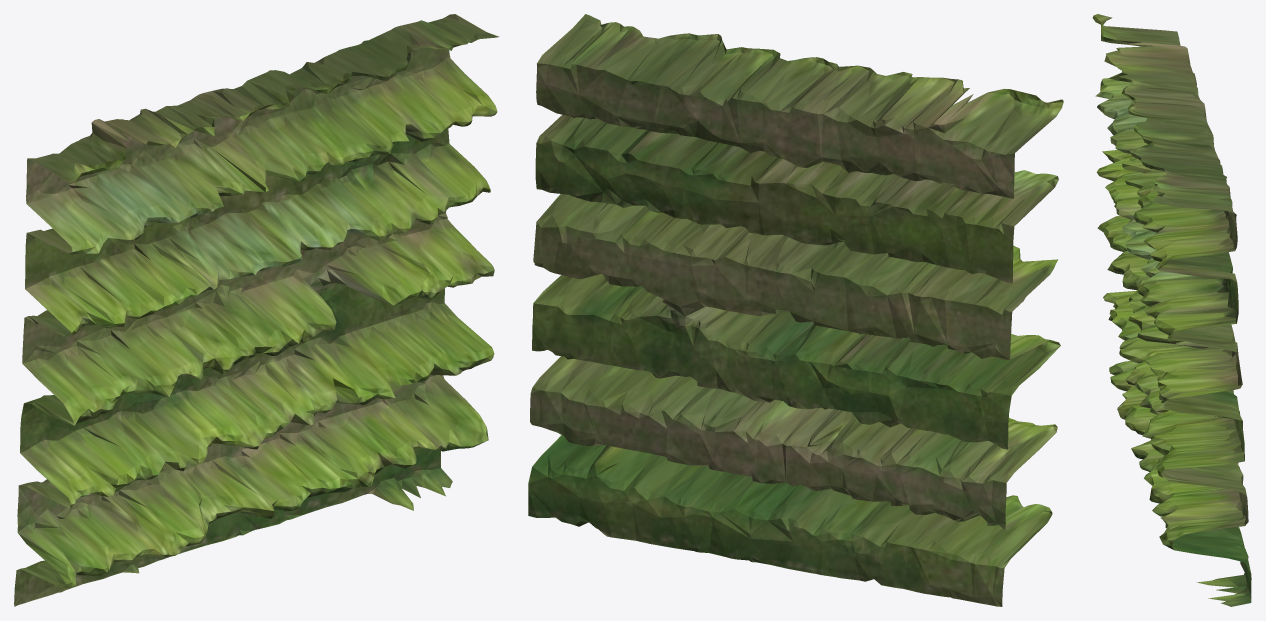
File: map_20_60.obj
3 views of the same model, side by side, from view 1: azimuth 30°, elevation 25°; view 2: azimuth 150°, elevation 25°; view 3: azimuth 270°, elevation 25° (orthographic). The views are drawn at different scales.
Visible parts, largest first — view 1: grp1; view 2: grp1; view 3: grp1.
Part boxes in pixels (bbox=[...]): grp1: bbox=[14, 14, 499, 606]; grp1: bbox=[528, 14, 1063, 606]; grp1: bbox=[1092, 14, 1251, 606].
Size of the model in its own units: 10 by 10 by 3.56.
Materials: 1 (1 with a texture image).
